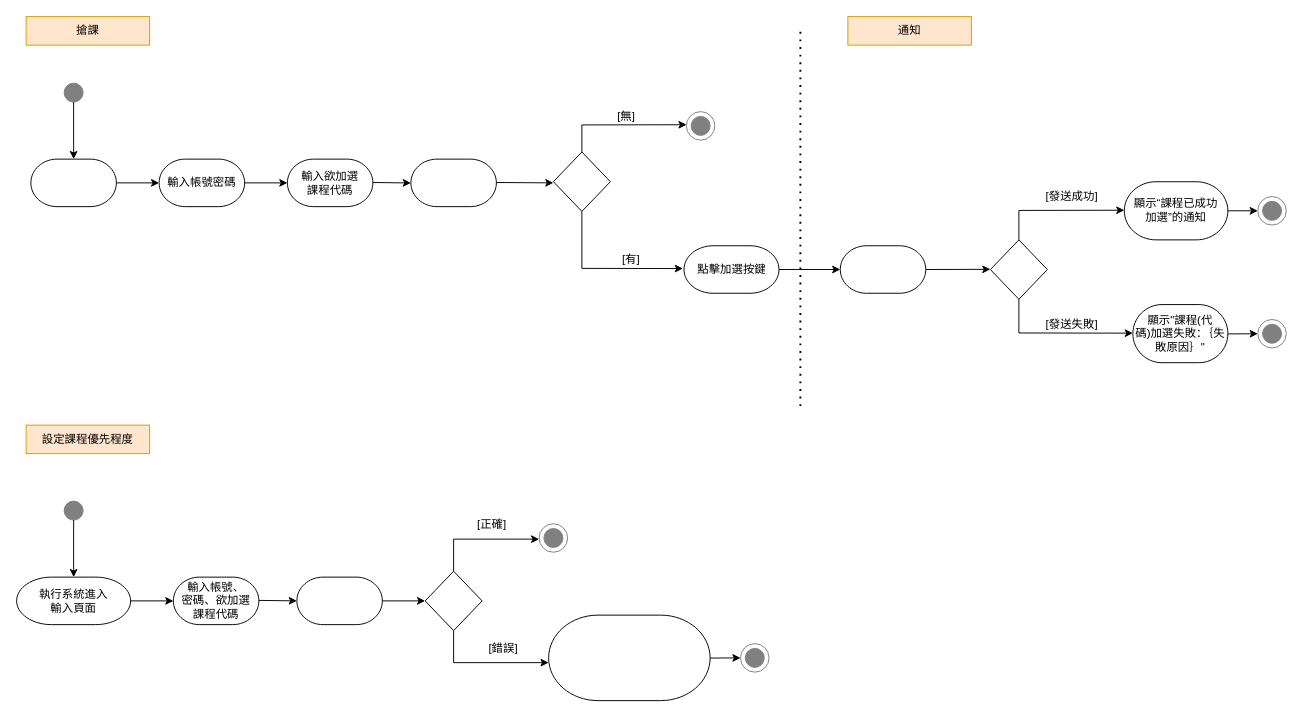
This 1303x717 diagram has some shape labels left out. Each missing label, with the centre of its shape:
判斷課程 有無名額: pixel 453 182
發送通知: pixel 882 269
確認課程 代碼格式: pixel 339 600
通知 "格式錯誤的 課 程代碼: {錯誤課程代 碼 }" "請重新輸入你想 加選 的 課 程代碼（多個 代碼以逗號分 隔，需 為4位數字）:": pixel 629 657
進入 選課 系統登入頁面: pixel 73 182
